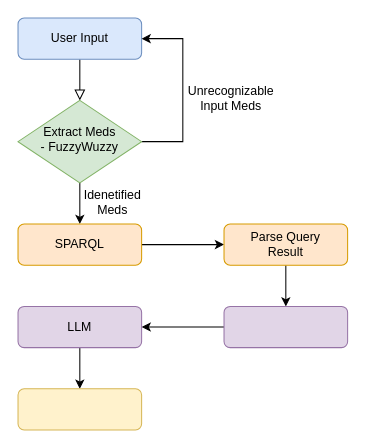
Some shapes in this 366 by 448 pixel diagram are drawn without their labels. The shapes that lost their labels are listed below. From the top down, each one's centre as x and y in pixels, then its label:
At (285,326): "Feed Sideeffects in Prompt".
At (79,409): "User Consumes & Interacts".
